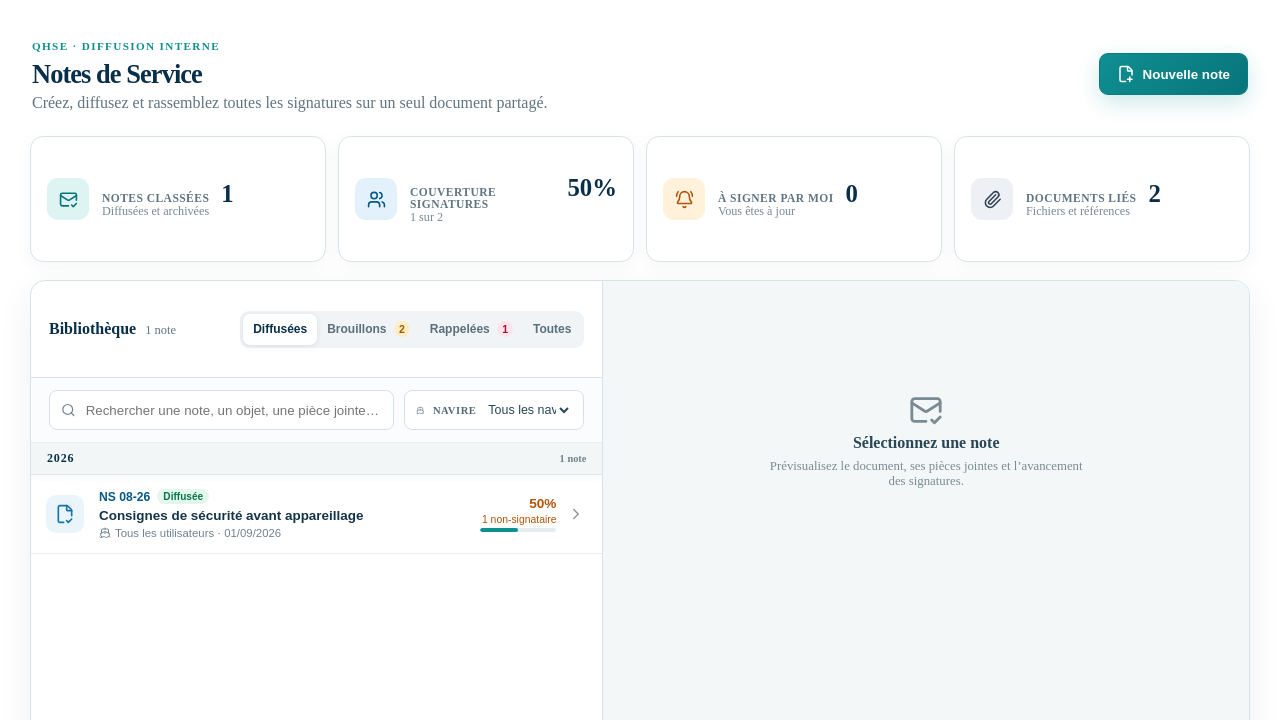
Test: ServiceNotesPage › keeps drafts in a dedicated manager-only view
Expected: the heading "Notes de Service" is shown, [32, 59, 202, 89]
What coordinates should you click on to do the following:
click the button "Brouillons 2"
I would click on:
 (368, 329)
Its box is [317, 314, 420, 344].
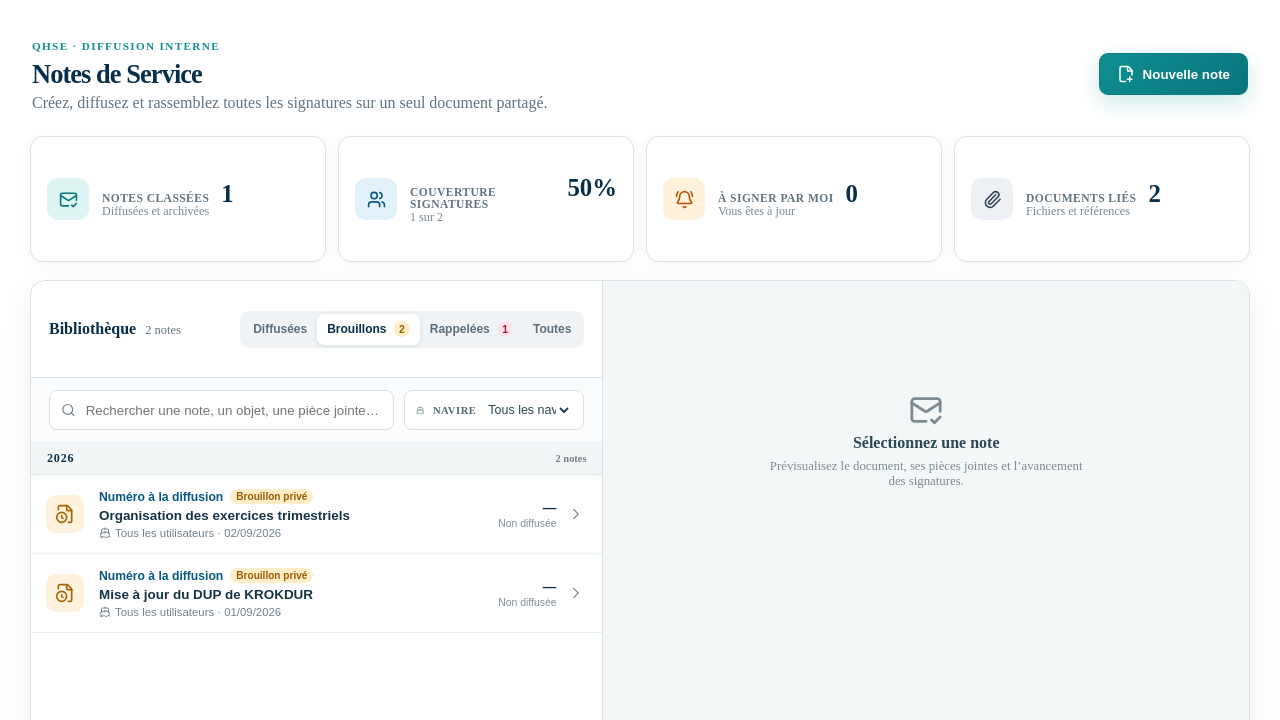
Result: the text "Organisation des exercices trimestriels" is shown at [99, 508, 350, 523]
Result: the text "Mise à jour du DUP de KROKDUR" is shown at [99, 587, 313, 602]
Result: the text "Numéro à la diffusion" is shown 2 times at [99, 490, 223, 504]; [99, 568, 223, 582]
